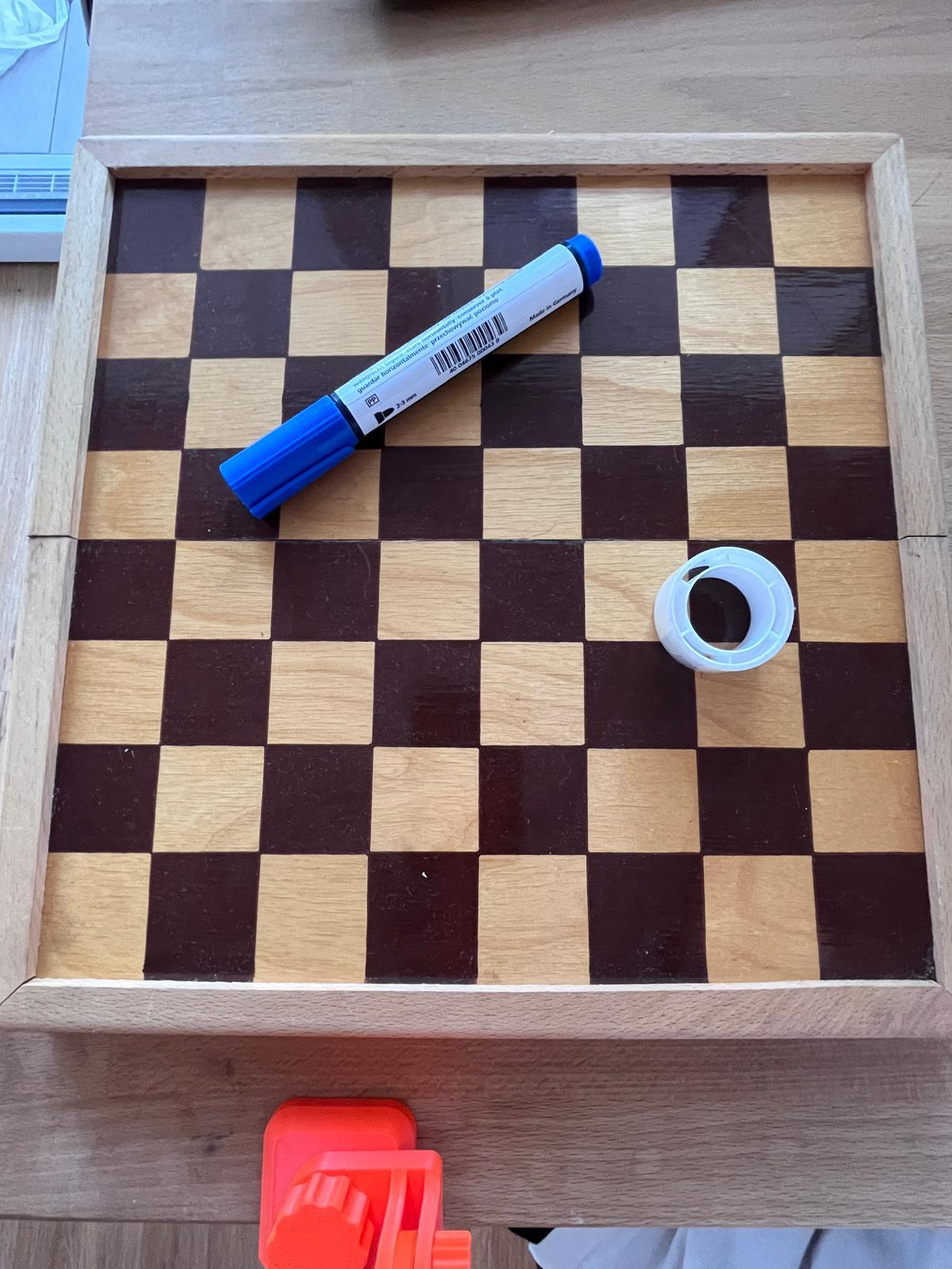marker: (217, 232, 605, 516)
tape: (655, 549, 797, 671)
